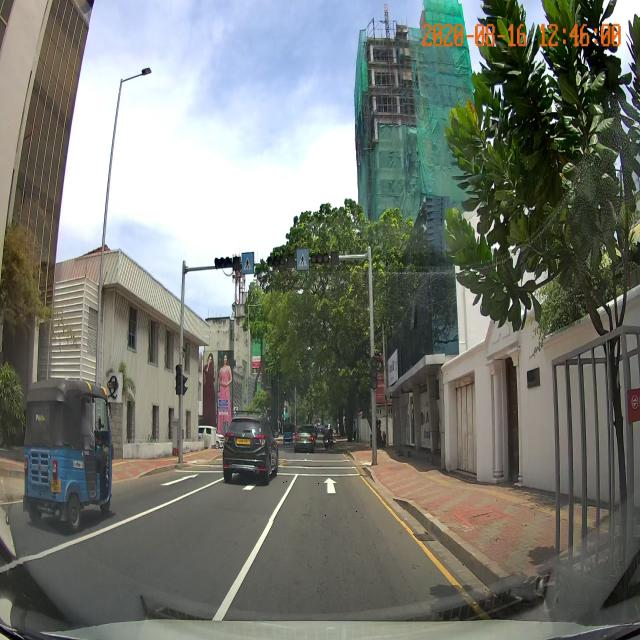forward: (270, 473, 405, 521)
